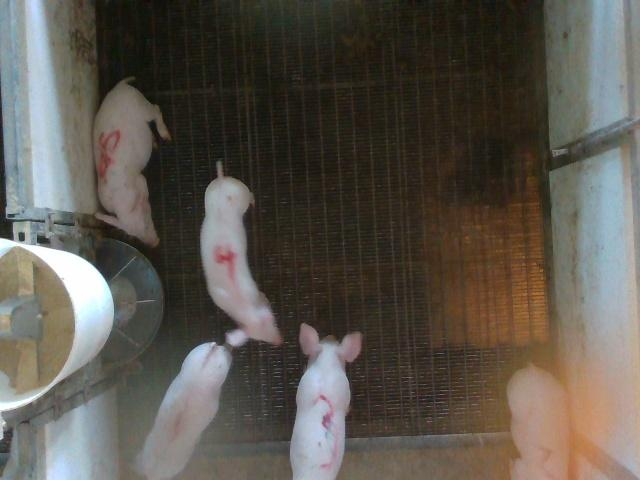pig-1: (136, 342, 231, 479)
pig-3: (290, 324, 362, 478)
pig-4: (200, 161, 282, 344)
pig-5: (94, 76, 171, 247)
